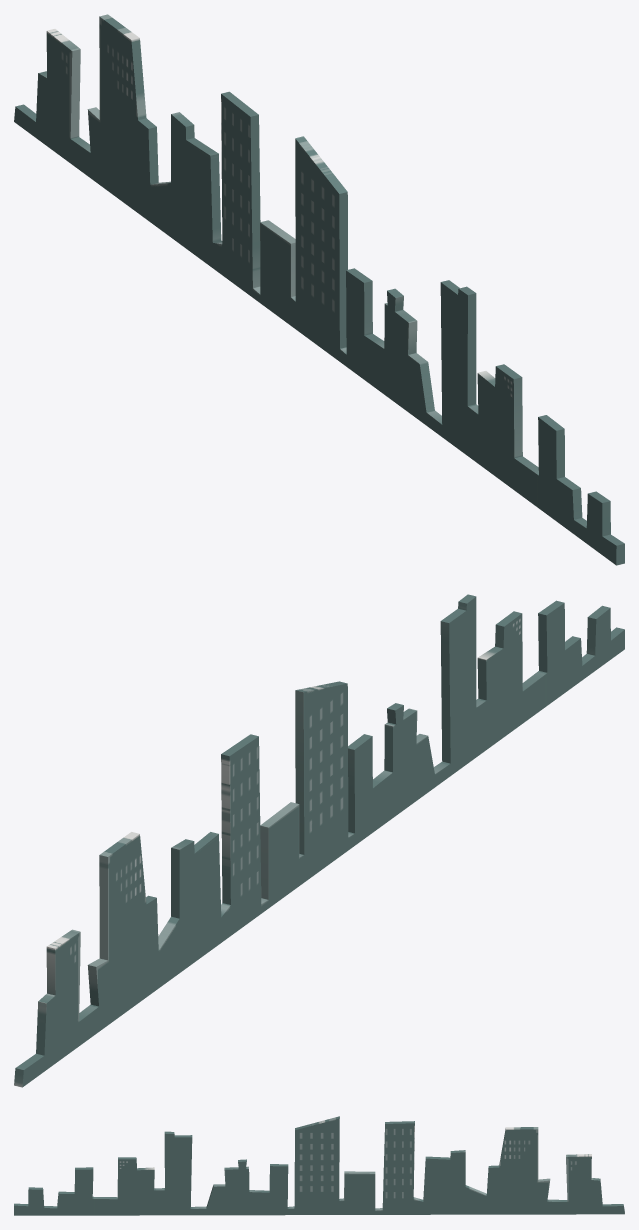
File: cityBackdrop.glb
3 renders of one model, top to bottom at view 1: azimuth 30°, elevation 25°; view 2: azimuth 150°, elevation 25°; view 3: azimuth 270°, elevation 25°, orthographic. The views are drawn at different scales.
Parts seen in each view (by area): view 1: 78786; view 2: 78786; view 3: 78786.
Part boxes in pixels (<box>): 78786: <box>14,14,624,565</box>; 78786: <box>14,594,624,1087</box>; 78786: <box>14,1116,624,1215</box>.
Size of the model in its own units: 0.0106 by 0.23 by 1.31.
Materials: 1 (1 with a texture image).
